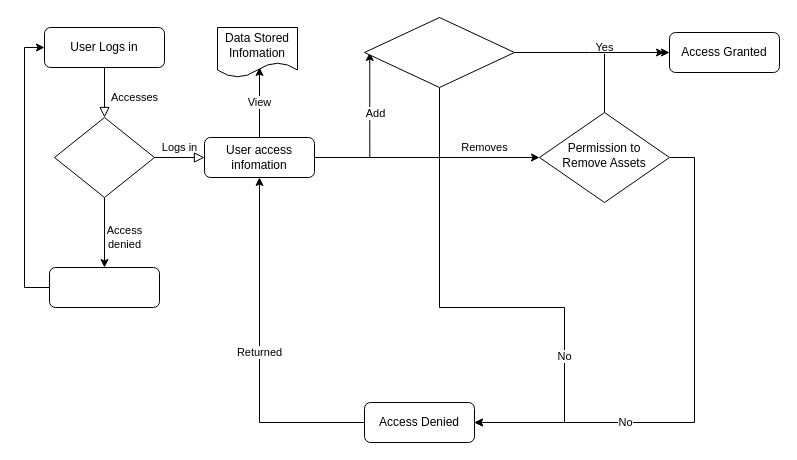
This 797x460 diagram has some shape labels left out. The shapes that lost their labels are listed below. From the top down, each one's centre as x and y in pixels, then its label:
At [439,52]: "Permission to Add Assets".
At [104,157]: "User Permission".
At [104,287]: "Deny Access".
